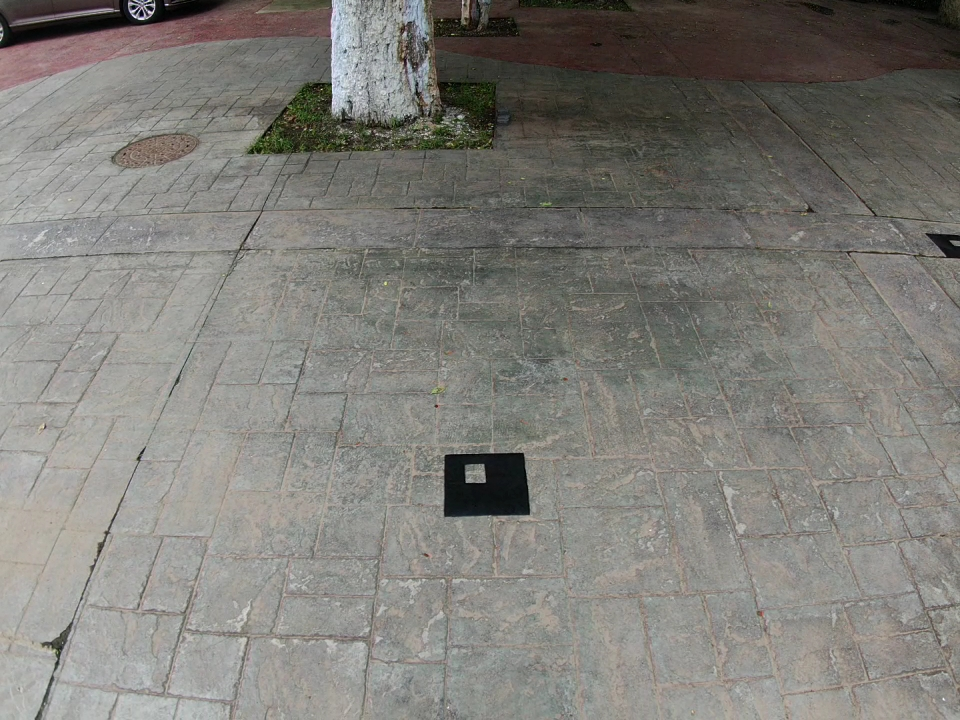qrcode: (444, 453, 530, 516)
